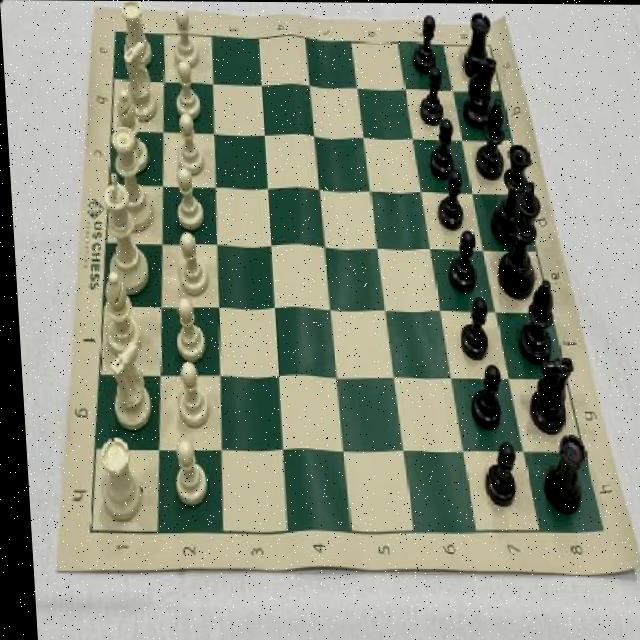bishop: (508, 277, 552, 361), (471, 96, 503, 177)
black-bishop: (491, 180, 544, 296)
black-king: (523, 353, 574, 435), (461, 49, 499, 128)
black-knight: (476, 435, 512, 508), (463, 364, 500, 430), (454, 297, 487, 360), (443, 229, 475, 292), (432, 168, 463, 232), (415, 65, 444, 126), (410, 12, 438, 74), (425, 118, 453, 178)
black-pawn: (486, 141, 533, 243)
black-queen: (535, 432, 585, 515), (460, 10, 495, 80)
black-rook: (97, 269, 137, 354), (113, 87, 148, 173)
white-bishop: (99, 173, 147, 296)
white-king: (102, 342, 149, 431), (119, 41, 159, 122)
white-knight: (165, 440, 204, 507), (171, 362, 205, 429), (169, 296, 202, 362), (175, 230, 207, 294), (171, 167, 201, 230), (171, 8, 201, 69), (173, 113, 201, 175), (172, 61, 201, 119)
white-pawn: (107, 127, 151, 234)
white-queen: (91, 434, 138, 521), (120, 1, 152, 67)
